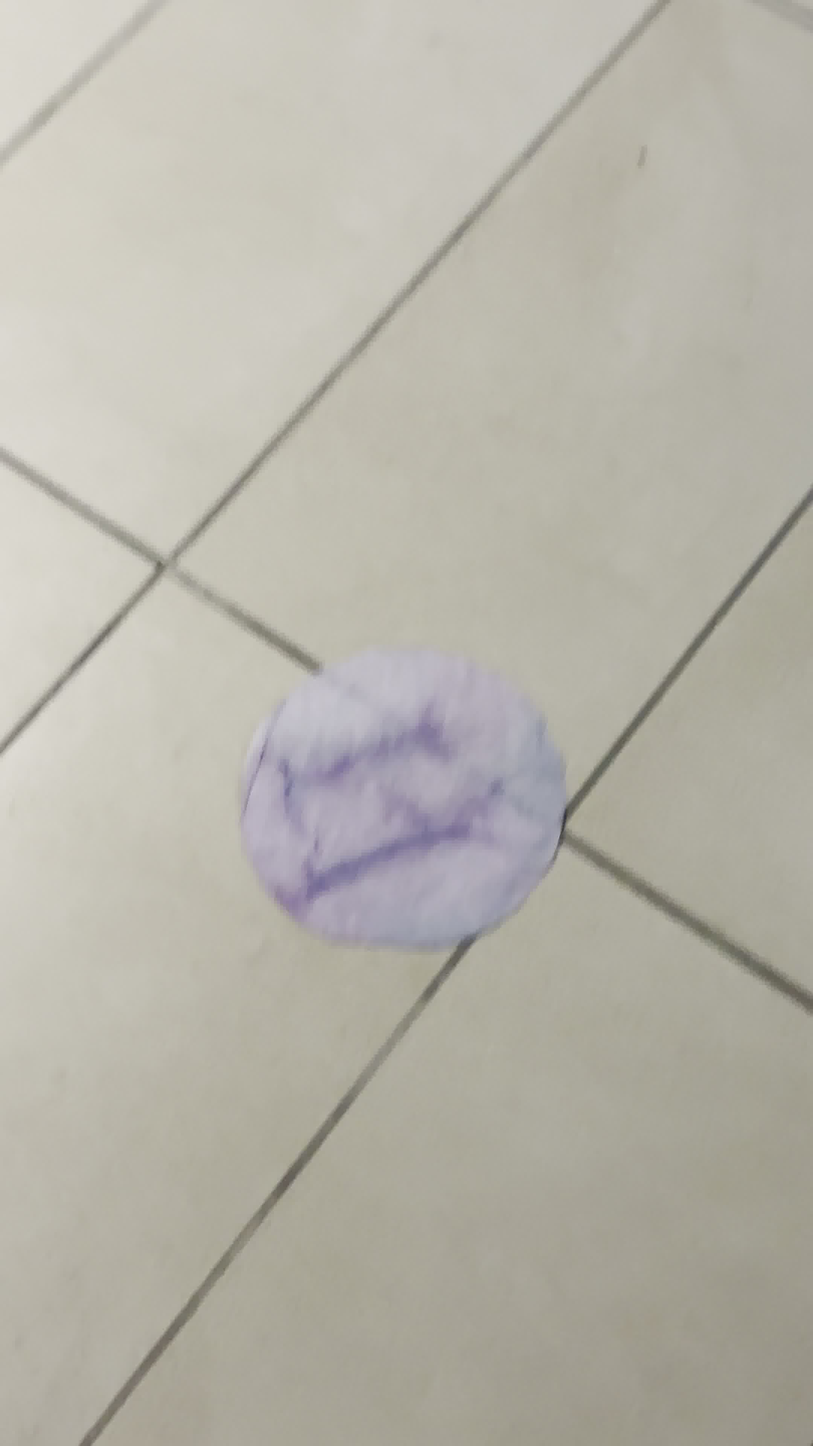Target: (236, 645, 564, 954)
